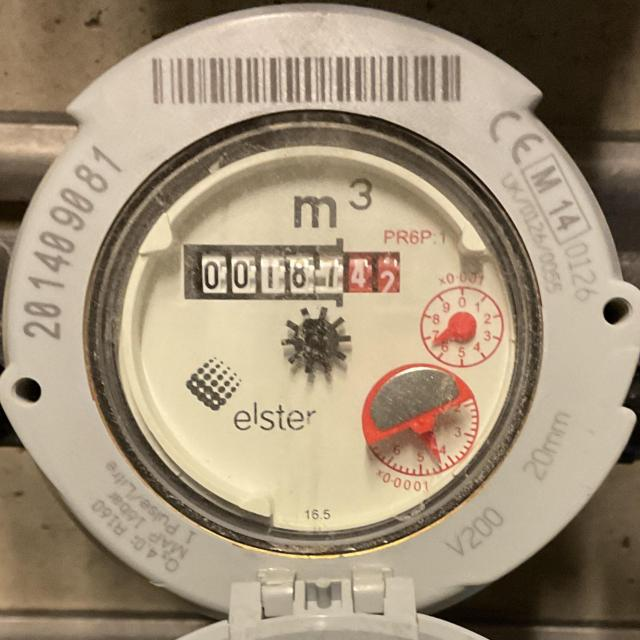gaz_meter: (121, 144, 520, 535)
indication: (181, 243, 399, 302)
